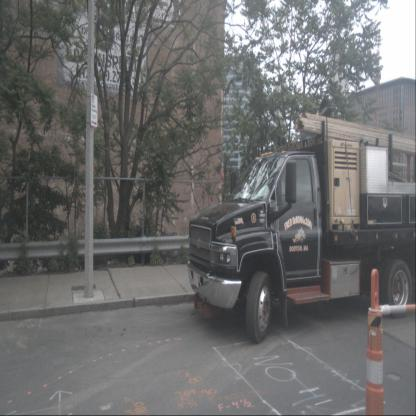cone: (357, 268, 394, 416)
